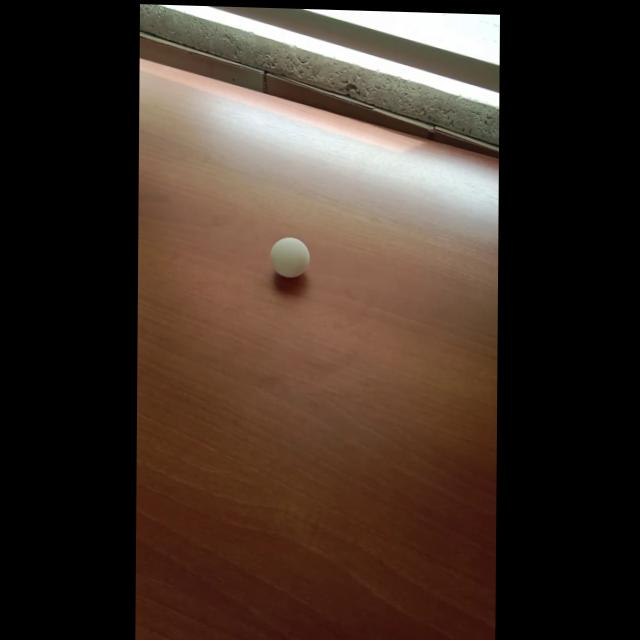white ball: (270, 236, 310, 279)
